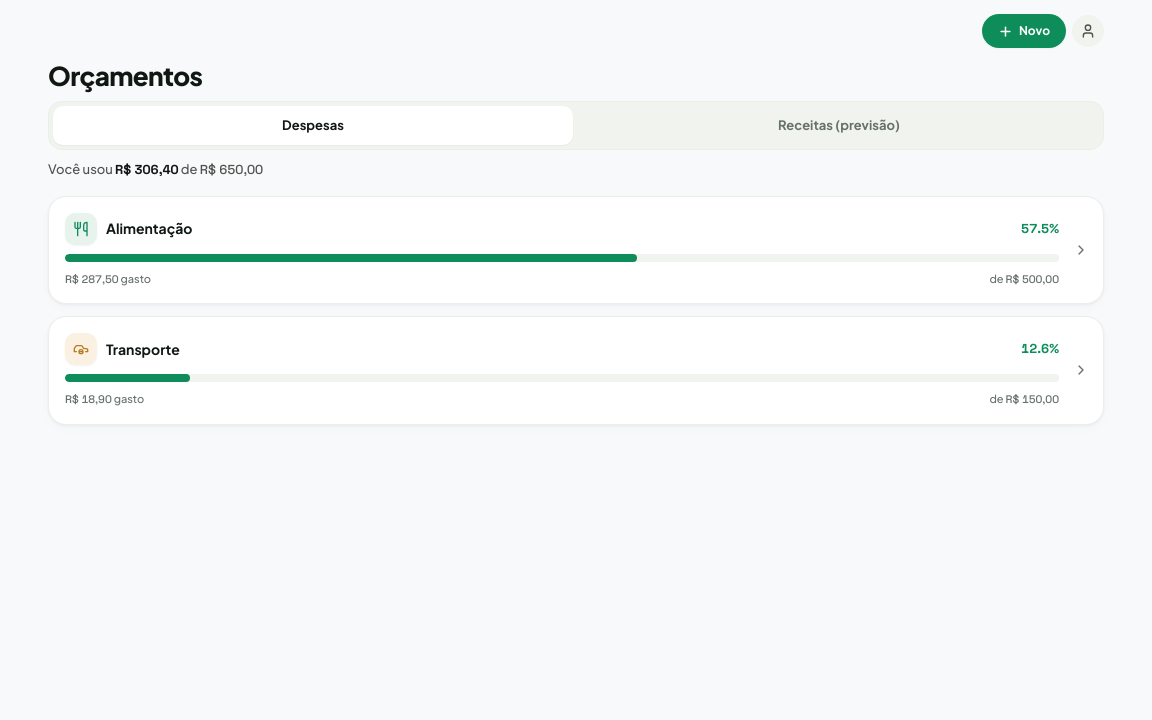
BudgetsPage › new budget flow — type chooser and category selector › Novo button opens type chooser
The image size is (1152, 720).
Click the button "Novo" at (1024, 31), box 982,14 -> 1066,48
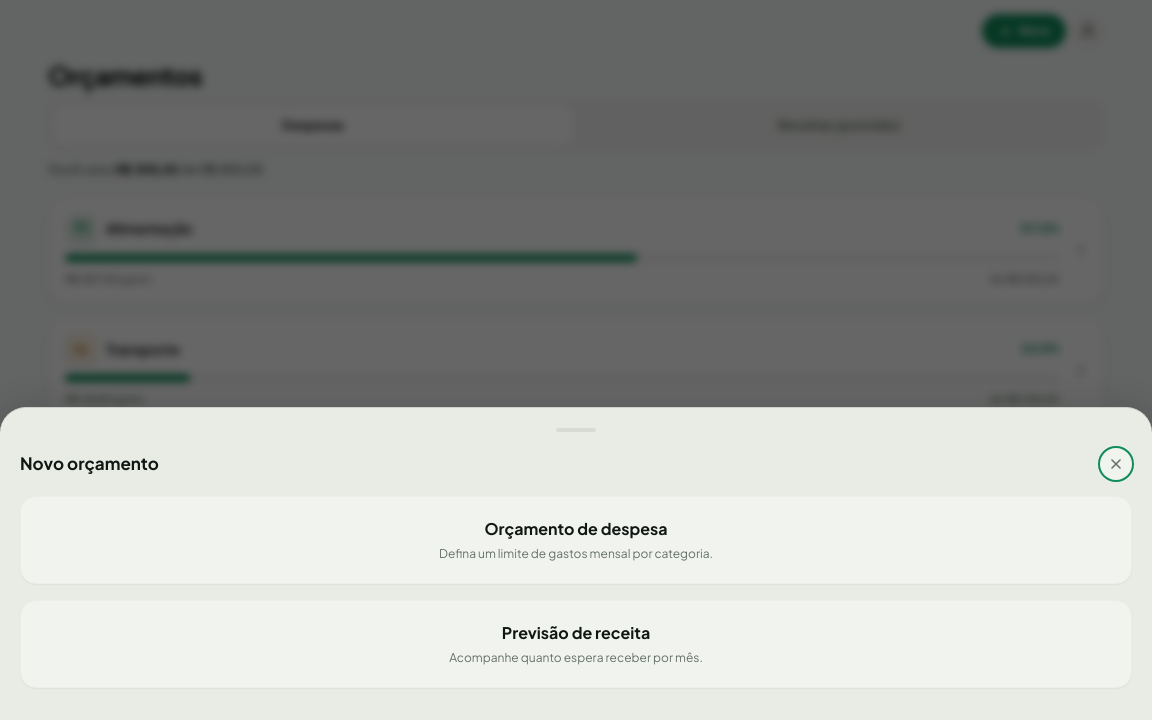
Check: the text "Orçamento de despesa" is shown, box 484,518 -> 668,539
Check: the text "Previsão de receita" is shown, box 502,622 -> 650,643
